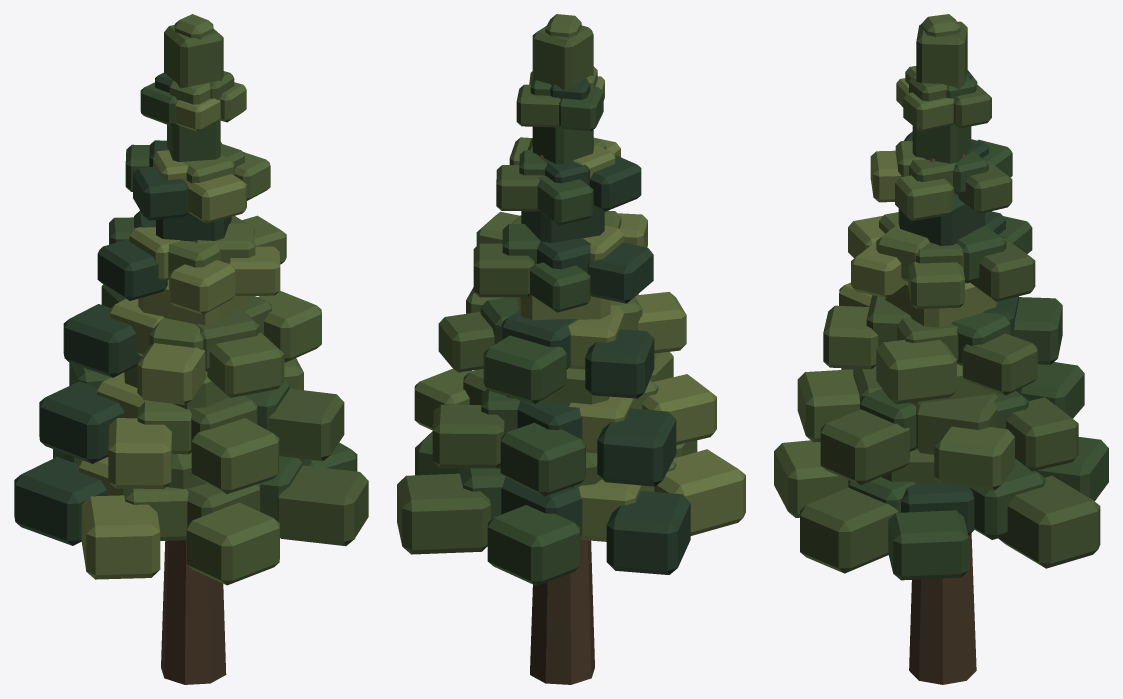
The model's file is pine_mature_2.glb.
The picture shows the model from 3 angles, left to right: view 1: azimuth 30°, elevation 25°; view 2: azimuth 150°, elevation 25°; view 3: azimuth 270°, elevation 25°; orthographic projection.
Visible parts, largest first — view 1: pine_mature_2; view 2: pine_mature_2; view 3: pine_mature_2.
Part boxes in pixels (x1,y1,x2,y2): pine_mature_2: (14,14,368,684); pine_mature_2: (397,14,745,684); pine_mature_2: (774,14,1108,684).
Bounding box in the file's own units: 9.32 × 20 × 9.32.
